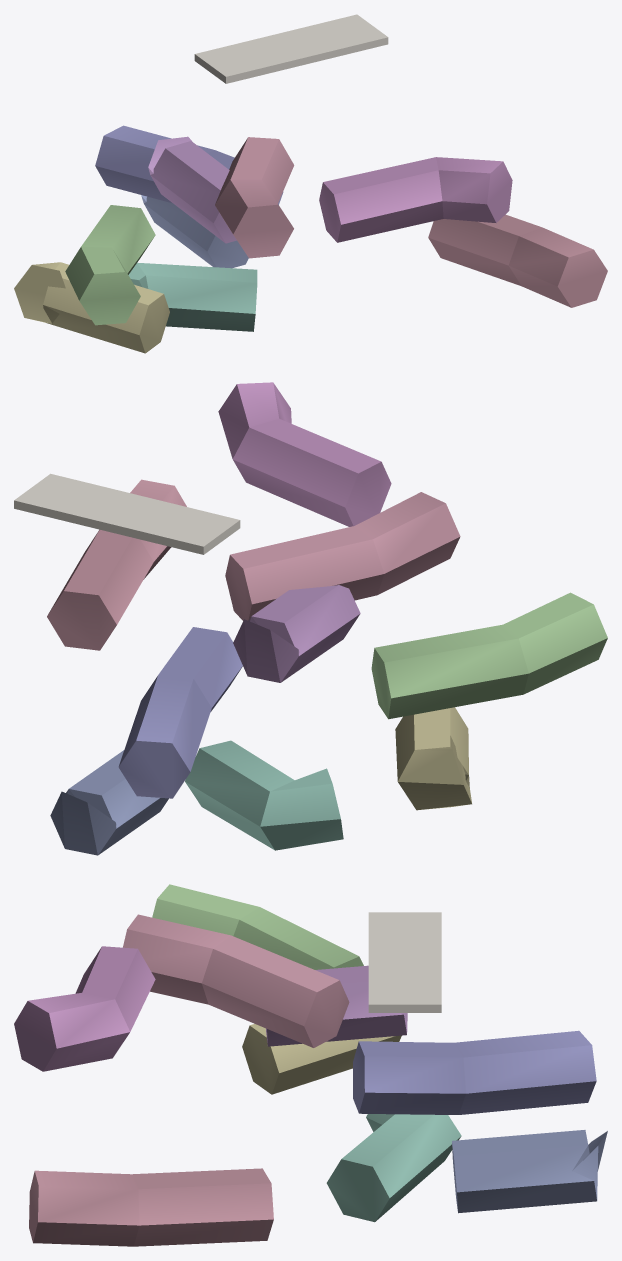
File: LostSockPile.fbx
3 views of the same model, one above another, from view 1: azimuth 30°, elevation 25°; view 2: azimuth 150°, elevation 25°; view 3: azimuth 270°, elevation 25° (orthographic). The views are drawn at different scales.
Parts seen in each view (by area): view 1: Prop_LostSockPile; view 2: Prop_LostSockPile; view 3: Prop_LostSockPile.
Part boxes in pixels (x1,y1,x2,y2): Prop_LostSockPile: (14,14,607,353); Prop_LostSockPile: (14,382,607,855); Prop_LostSockPile: (14,884,607,1246).
Size of the model in its own units: 0.6956 by 0.3546 by 0.6524.
